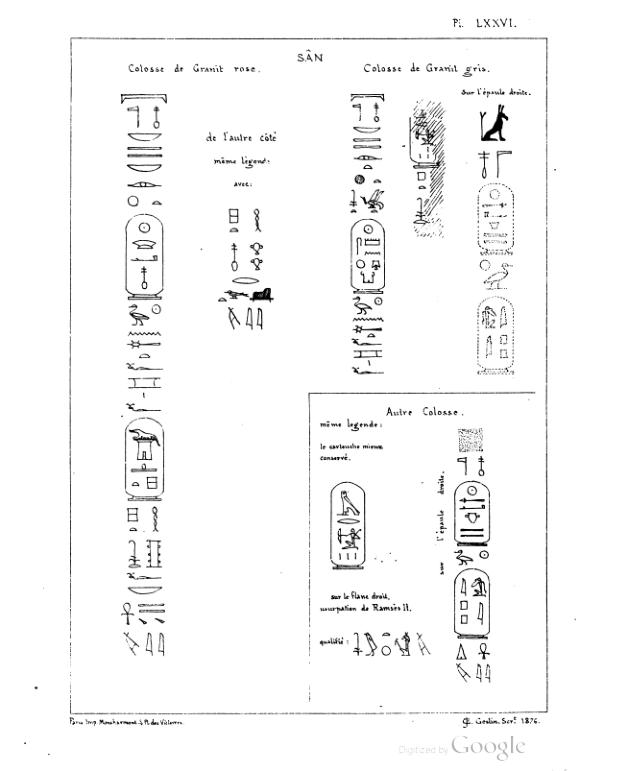circle: (324, 479, 375, 575), (120, 211, 170, 301), (122, 412, 170, 503), (342, 213, 388, 295), (471, 178, 518, 258), (475, 293, 518, 379), (453, 567, 495, 642), (450, 481, 494, 549)
